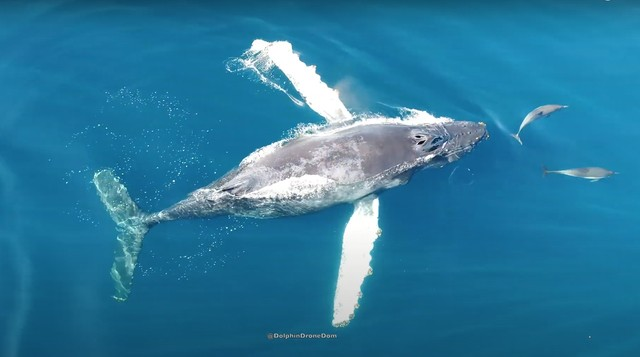whale: (78, 28, 501, 338)
